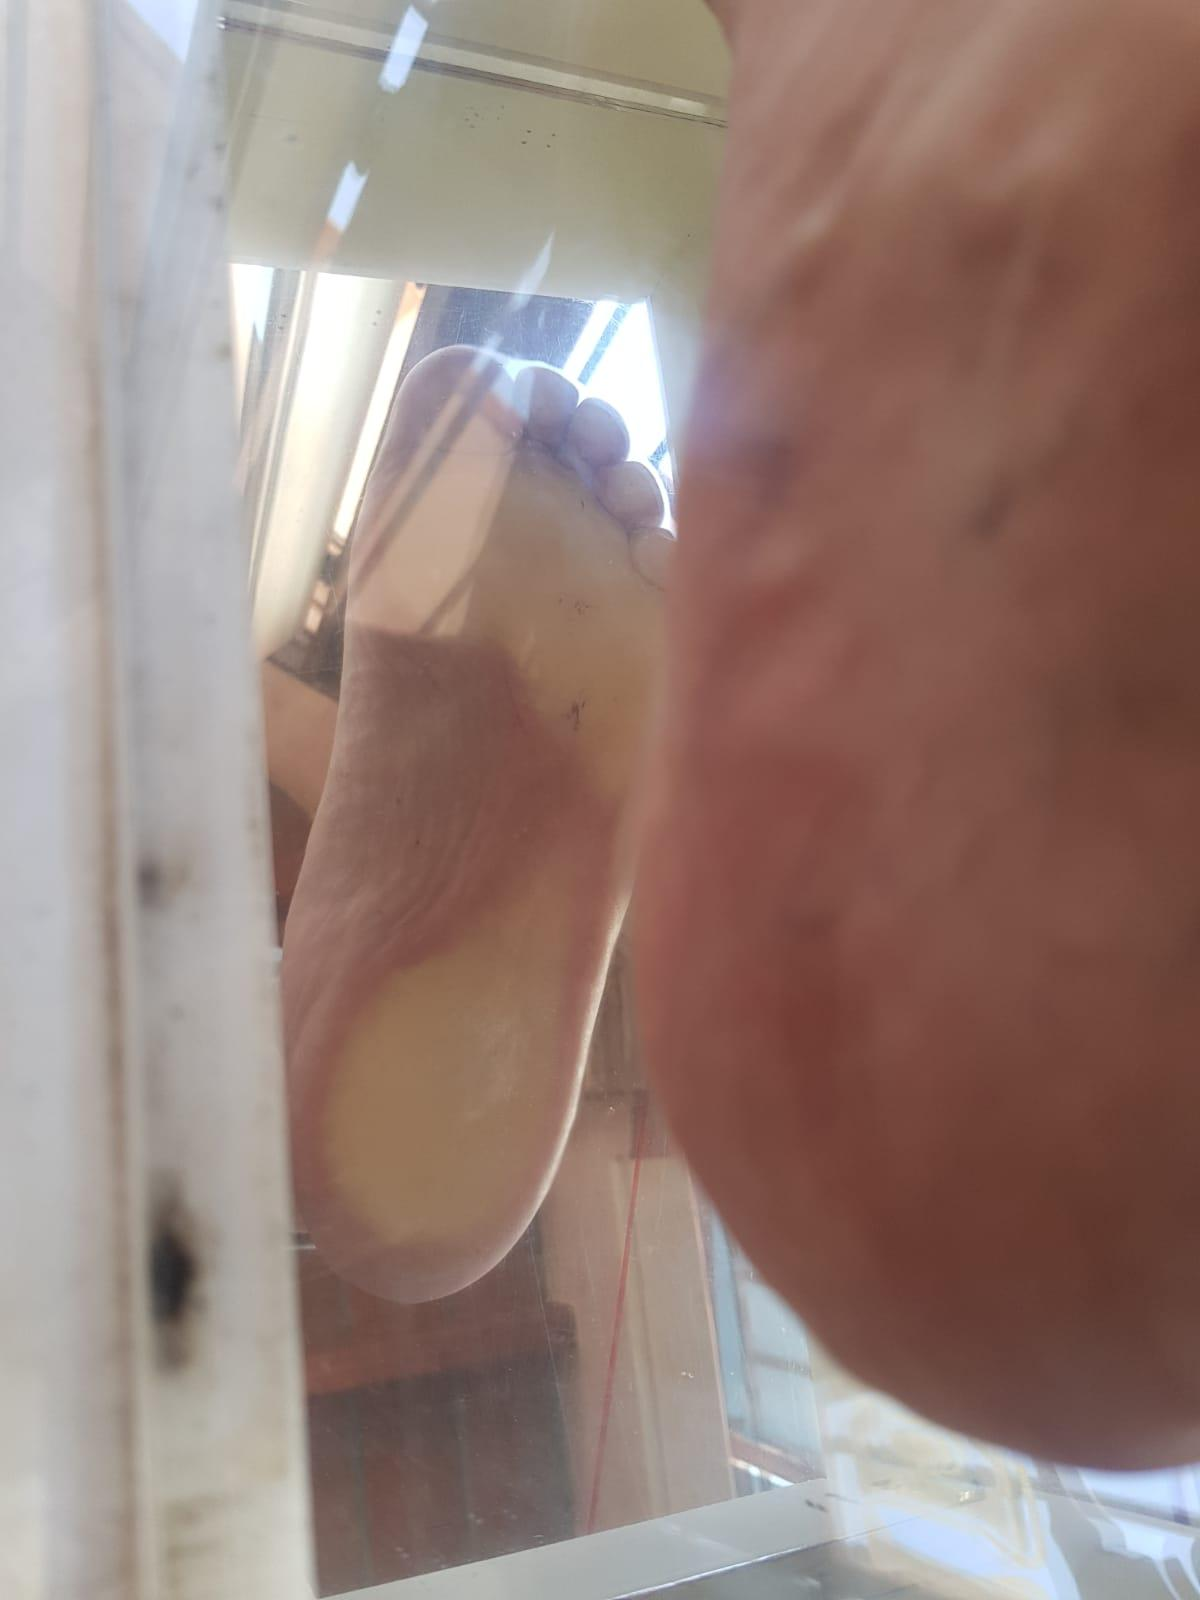Present: (275, 325, 671, 1320)
